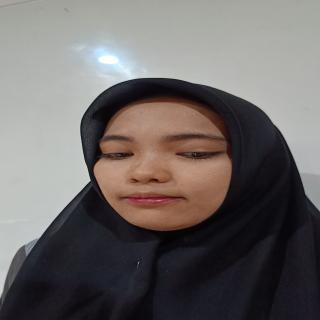Sedih: (80, 90, 251, 237)
